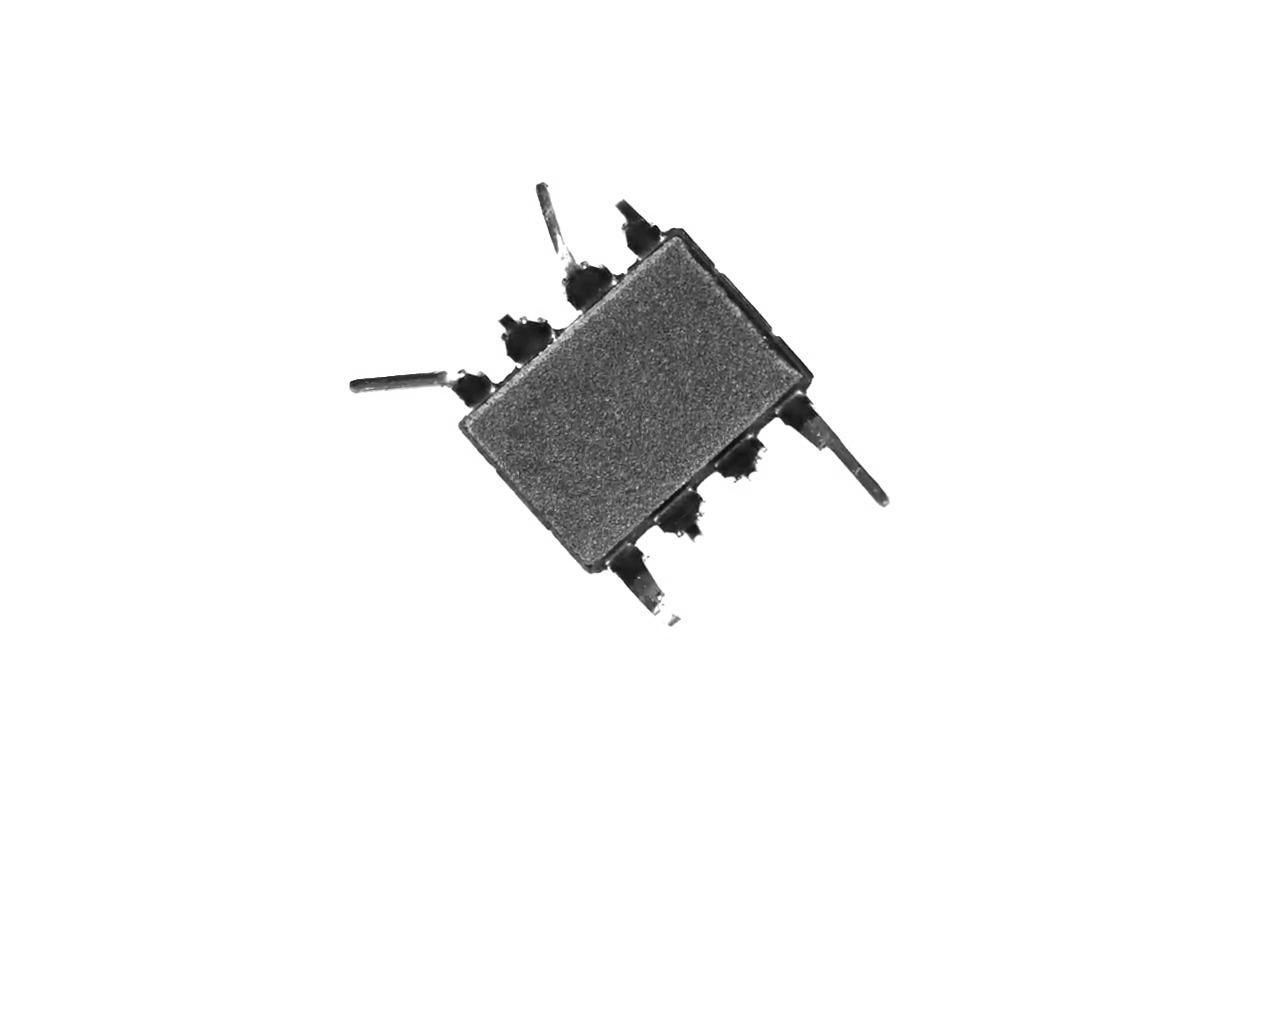Leg: (783, 388, 897, 521), (529, 178, 623, 316), (325, 358, 504, 412), (606, 544, 688, 645)
brokenLeg: (605, 197, 673, 273), (492, 312, 560, 373), (712, 436, 775, 494), (656, 494, 716, 553)
